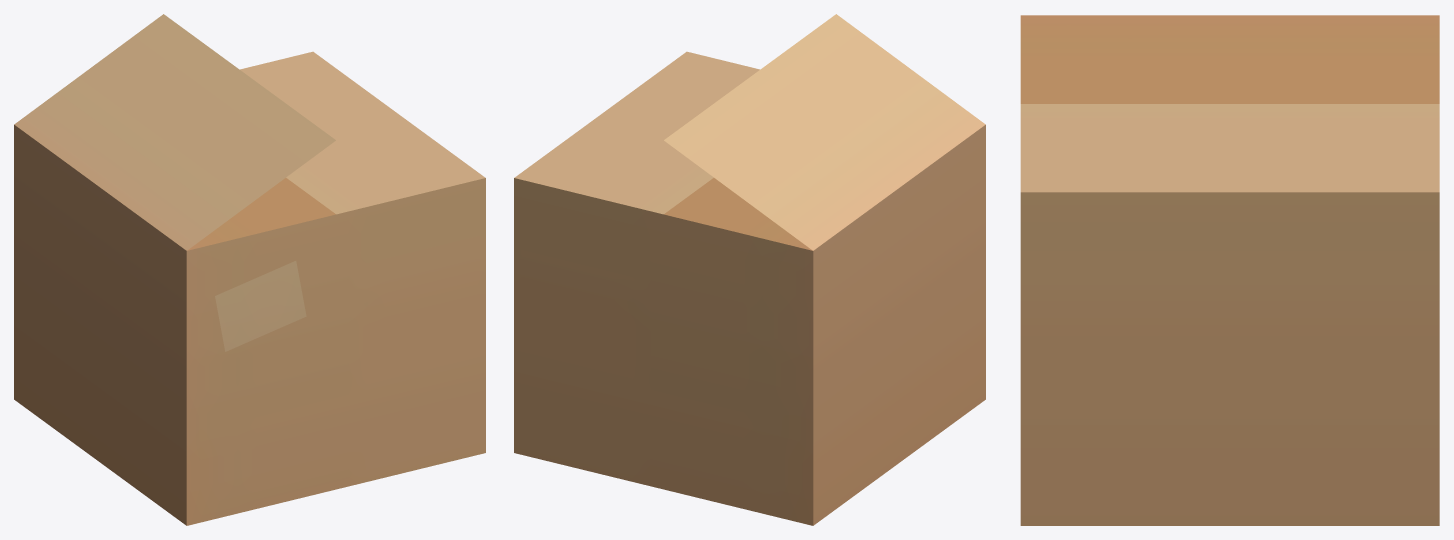
The model's file is kay-caixa-papelao-b.gltf.
The picture shows the model from 3 angles, left to right: view 1: azimuth 30°, elevation 25°; view 2: azimuth 150°, elevation 25°; view 3: azimuth 270°, elevation 25°; orthographic projection. The views are drawn at different scales.
Parts seen in each view (by area): view 1: box_B; view 2: box_B; view 3: box_B.
Boxes of the visible parts, box(x1,y1,x2,y2) form: box_B: box(14, 14, 485, 525); box_B: box(514, 14, 985, 525); box_B: box(1020, 15, 1439, 525).
Bounding box in the file's own units: 0.7603 × 0.8482 × 0.772.
1 material, 1 textured.
